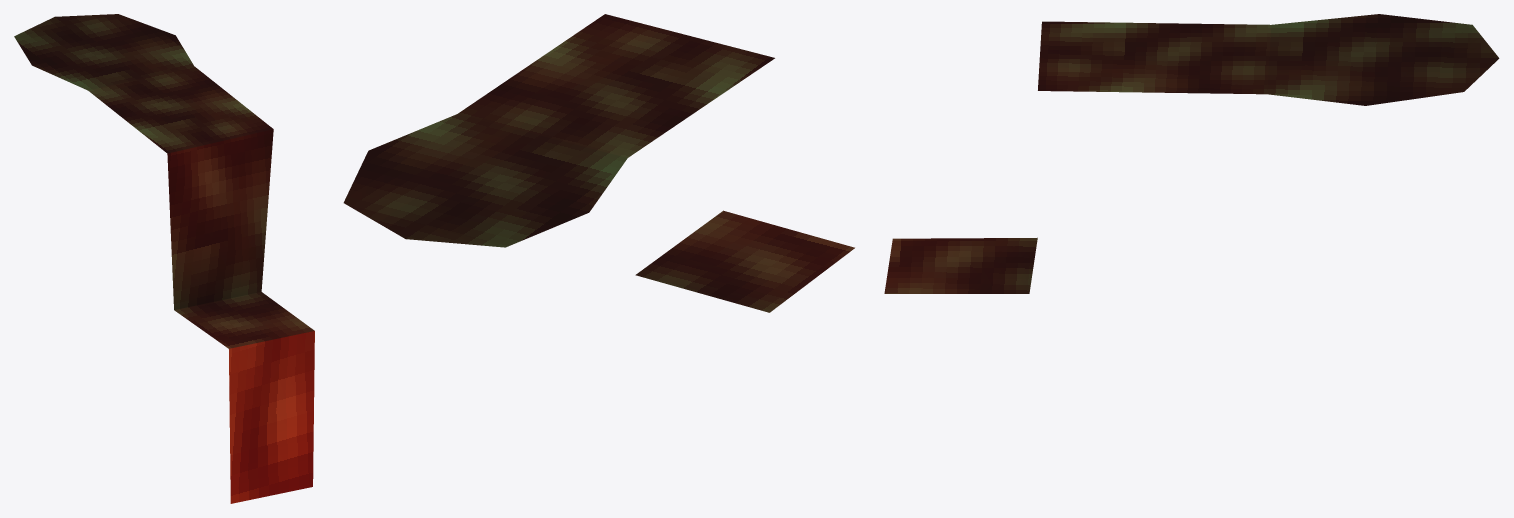
Rendered from DECO_LAVA_RIVER.glb.
The picture shows the model from 3 angles, left to right: view 1: azimuth 30°, elevation 25°; view 2: azimuth 150°, elevation 25°; view 3: azimuth 270°, elevation 25°; orthographic projection. The views are drawn at different scales.
Parts seen in each view (by area): view 1: DECO_LAVA_RIVER.001; view 2: DECO_LAVA_RIVER.001; view 3: DECO_LAVA_RIVER.001.
Part boxes in pixels (x1,y1,x2,y2): DECO_LAVA_RIVER.001: (14,14,314,503); DECO_LAVA_RIVER.001: (343,14,854,312); DECO_LAVA_RIVER.001: (884,14,1499,293).
Bounding box in the file's own units: 2.46 × 5.29 × 6.95.
Materials: 1 (1 with a texture image).
